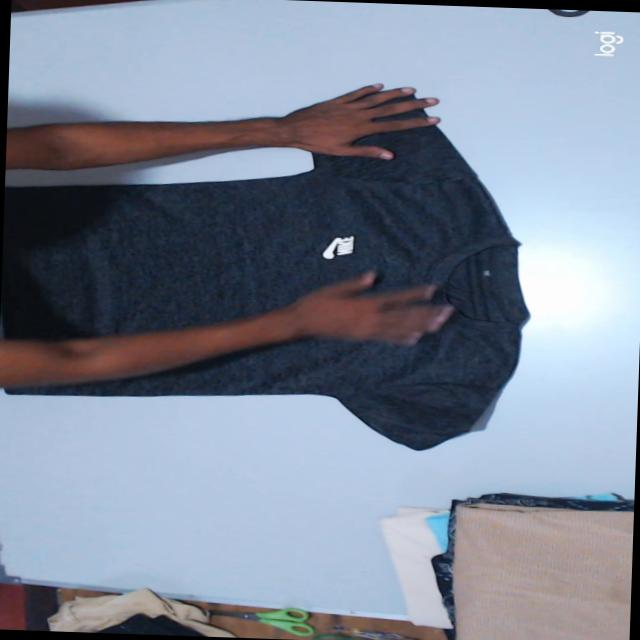new-garment: (1, 125, 526, 448)
